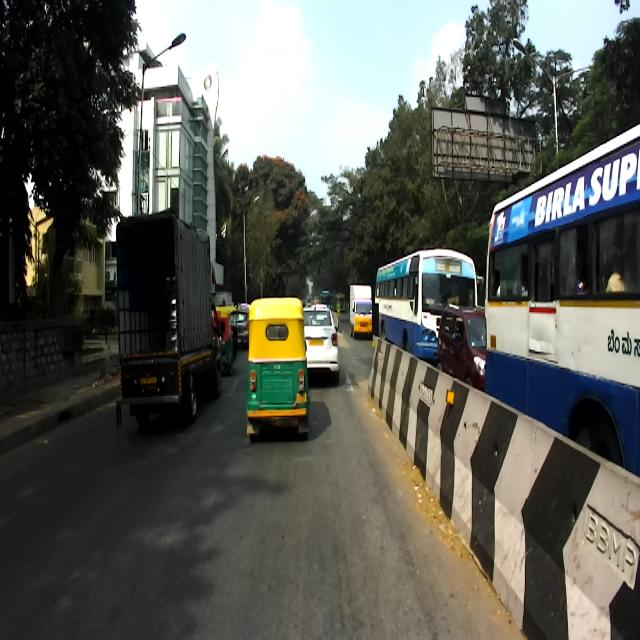auto ahead at: (244, 303, 312, 432)
car ahead at: (306, 303, 342, 379)
truck ahead at: (115, 214, 222, 429)
